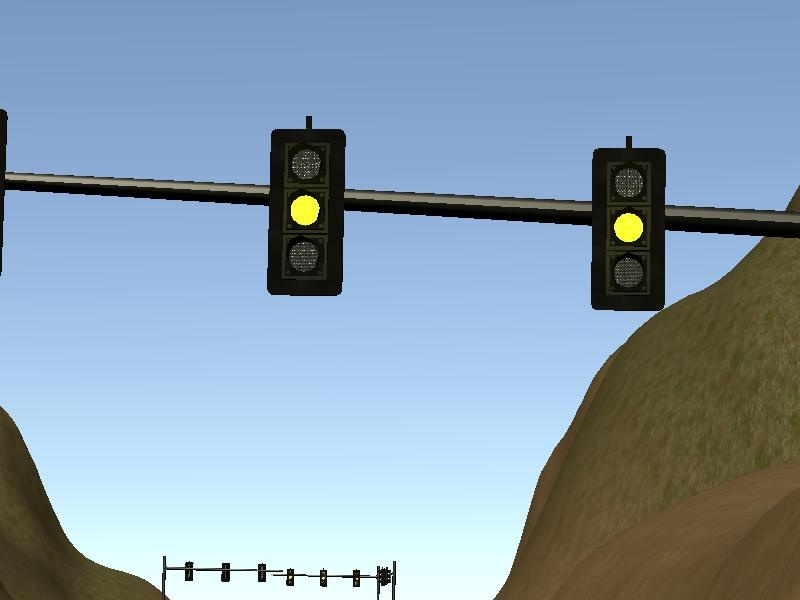yellow: (581, 132, 674, 318), (261, 116, 350, 302)
